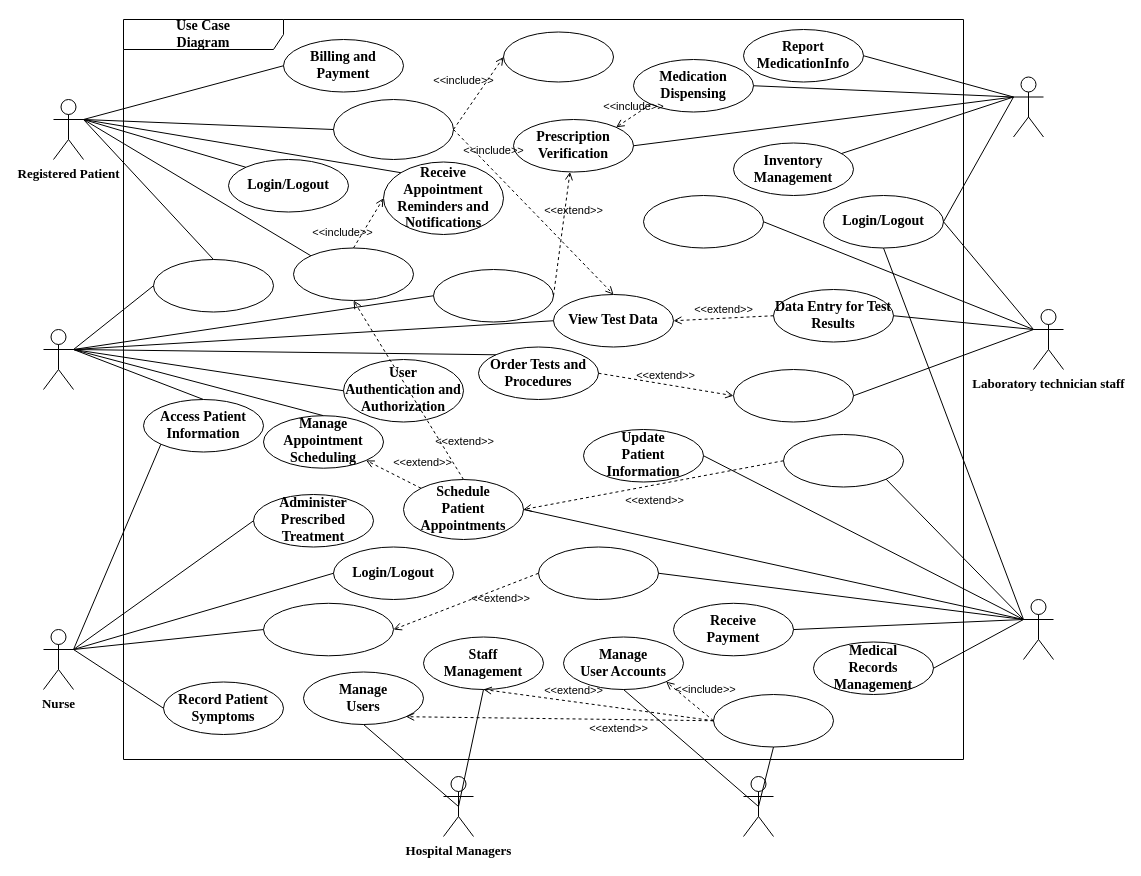
Some shapes in this 1141 by 876 pixel diagram are drawn without their labels. The box of each missing label's shape, as (x1, y1, x2, y2) in pixels:
Access Medical History and Records: (332, 98, 454, 160)
Book an appointment: (292, 247, 414, 300)
Communicate with Patients: (152, 258, 274, 312)
Doctor: (42, 328, 74, 390)
Handle Test Requests from Doctors: (732, 368, 854, 422)
Instrument Troubleshooting: (642, 194, 764, 248)
Manage Prescriptions: (432, 268, 554, 322)
Patient Admission and Discharge: (262, 602, 394, 656)
Patient Check-In and Check-Out: (538, 546, 658, 600)
Patient Registration: (782, 434, 904, 487)
Pharmacist: (1012, 76, 1044, 137)
Receptionist: (1022, 598, 1054, 660)
Set Up Hospital Accounts: (712, 694, 834, 747)
System Operators: (742, 776, 774, 836)
View Prescriptions: (502, 31, 614, 82)
